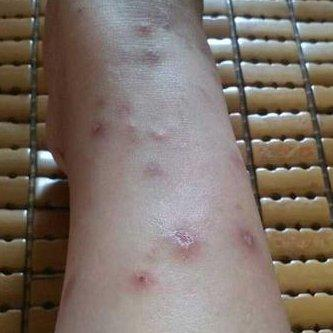Fleas: (167, 231, 205, 260), (233, 227, 260, 250), (129, 271, 154, 291), (139, 48, 164, 68), (113, 101, 135, 120), (86, 117, 106, 136), (132, 19, 153, 37), (144, 161, 164, 179), (149, 130, 168, 145)
